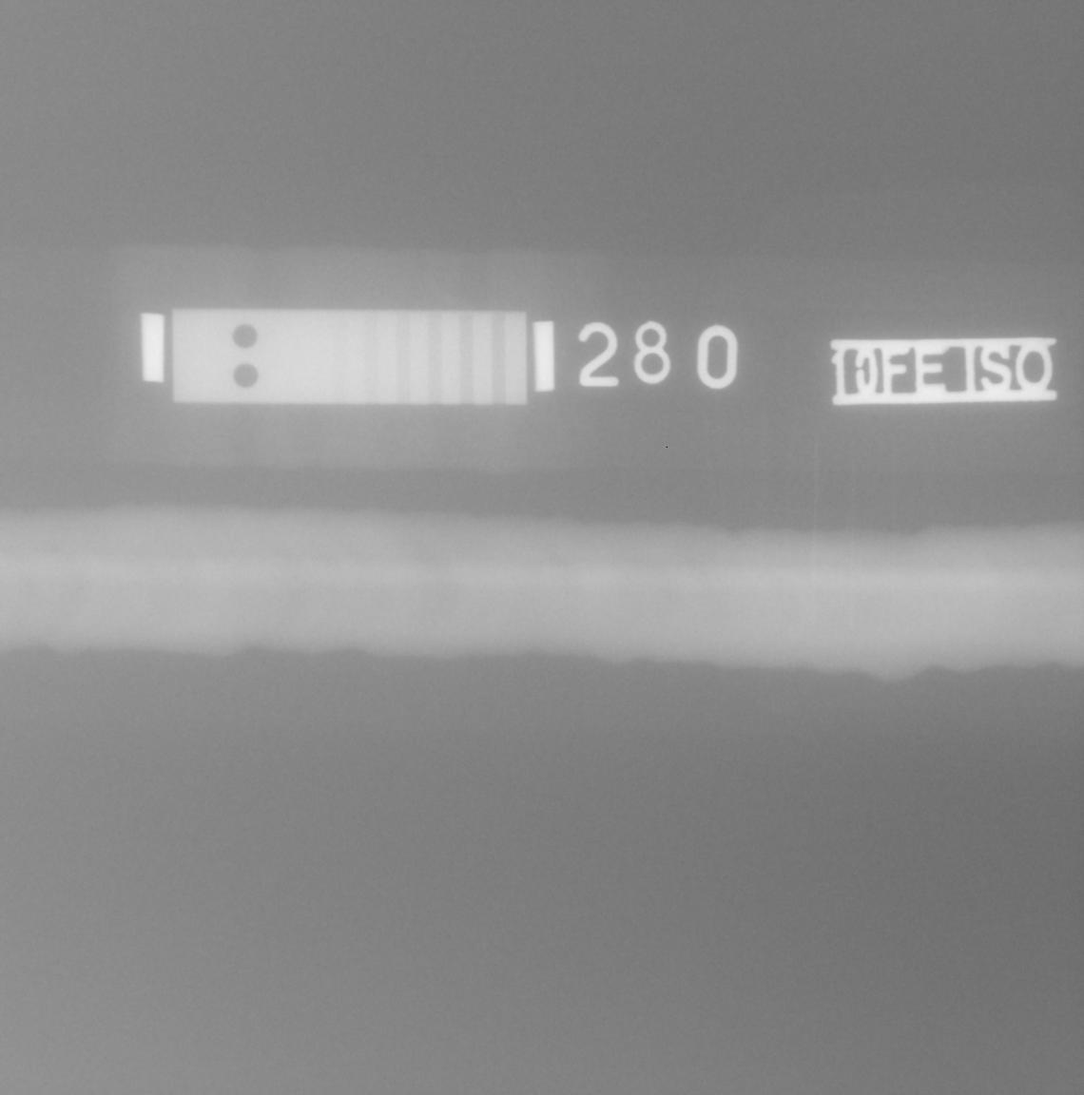Reference Standard 2: (173, 309, 527, 404)
